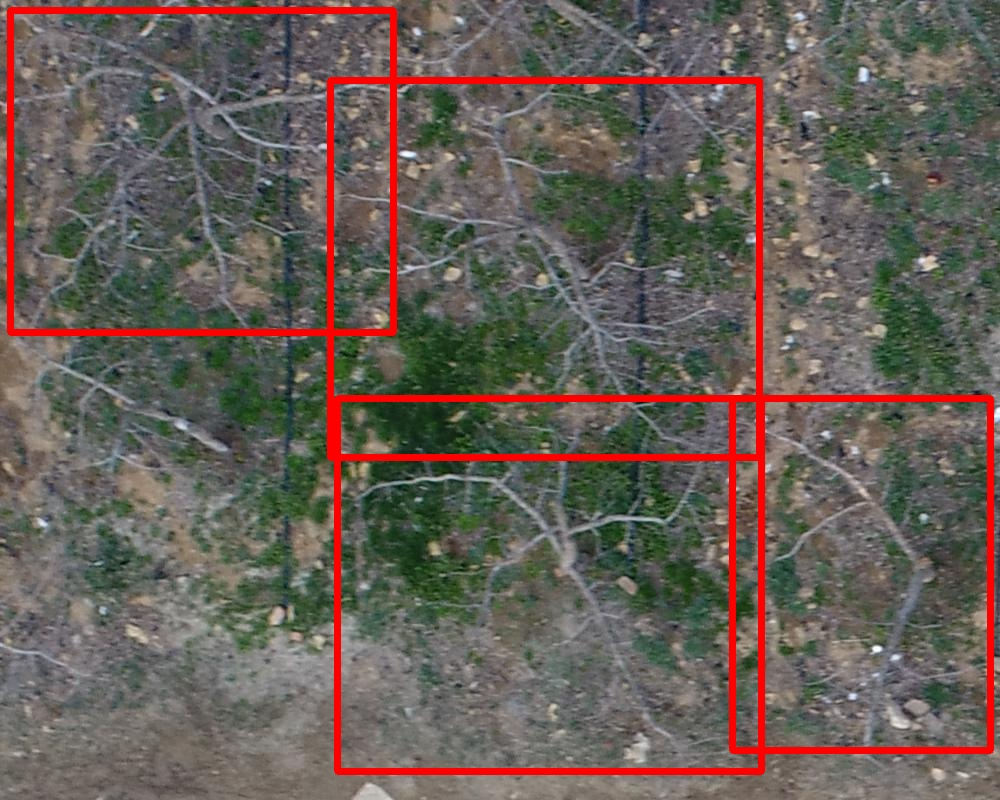apple: (330, 80, 759, 457), (337, 398, 761, 771), (10, 10, 393, 332), (732, 398, 990, 750)
